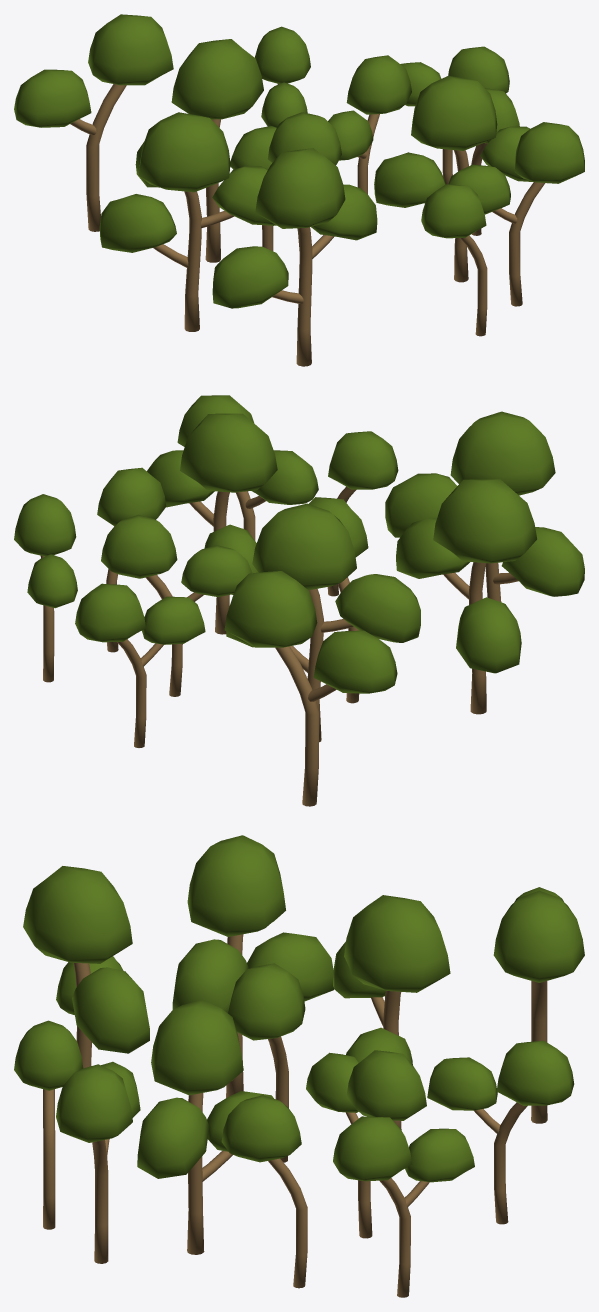
Rendered from trees.glb.
3 renders of one model, top to bottom at view 1: azimuth 30°, elevation 25°; view 2: azimuth 150°, elevation 25°; view 3: azimuth 270°, elevation 25°, orthographic. The views are drawn at different scales.
Parts seen in each view (by area): view 1: Resource_Tree_Group; view 2: Resource_Tree_Group; view 3: Resource_Tree_Group.
Part boxes in pixels (box(x1,y1,x2,y2)): Resource_Tree_Group: box(14, 14, 584, 366); Resource_Tree_Group: box(14, 395, 584, 806); Resource_Tree_Group: box(14, 835, 584, 1297).
Size of the model in its own units: 1.97 by 0.9265 by 1.86.
